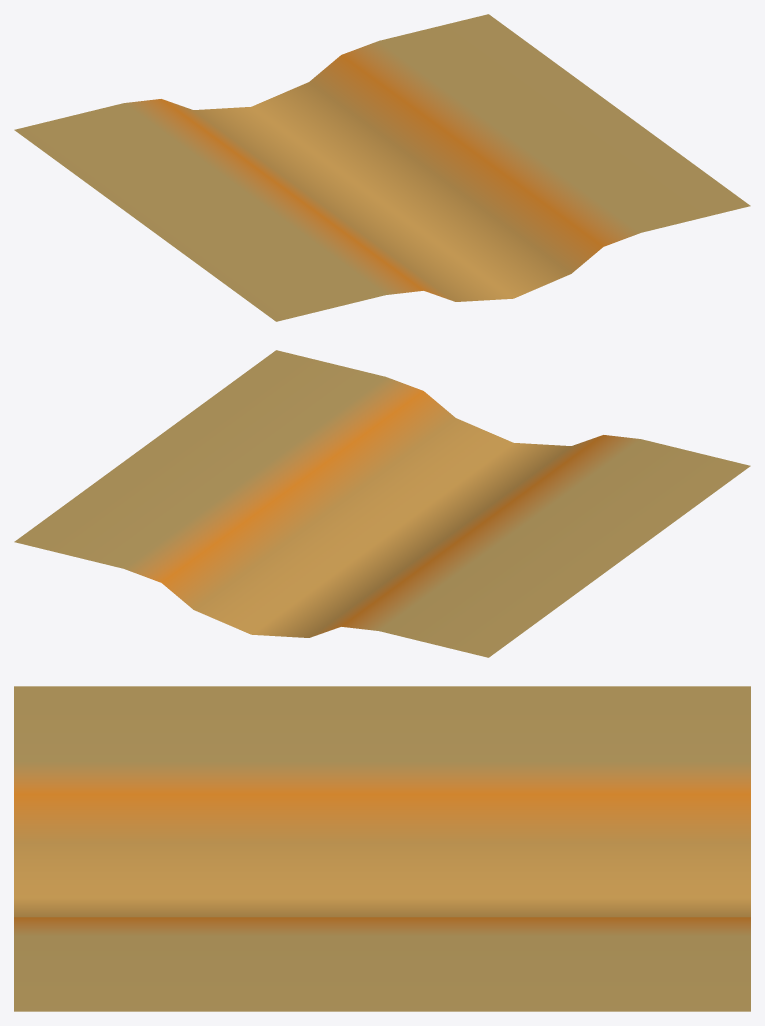
The model's file is Sandbank_1_v2.0.fbx.
3 views of the same model, one above another, from view 1: azimuth 30°, elevation 25°; view 2: azimuth 150°, elevation 25°; view 3: azimuth 270°, elevation 25° (orthographic). The views are drawn at different scales.
Parts seen in each view (by area): view 1: Bank1; view 2: Bank1; view 3: Bank1.
Part boxes in pixels (<box>): Bank1: <box>14,14,750,321</box>; Bank1: <box>14,350,750,657</box>; Bank1: <box>14,686,750,1011</box>.
Size of the model in its own units: 8360 by 586 by 8000.
